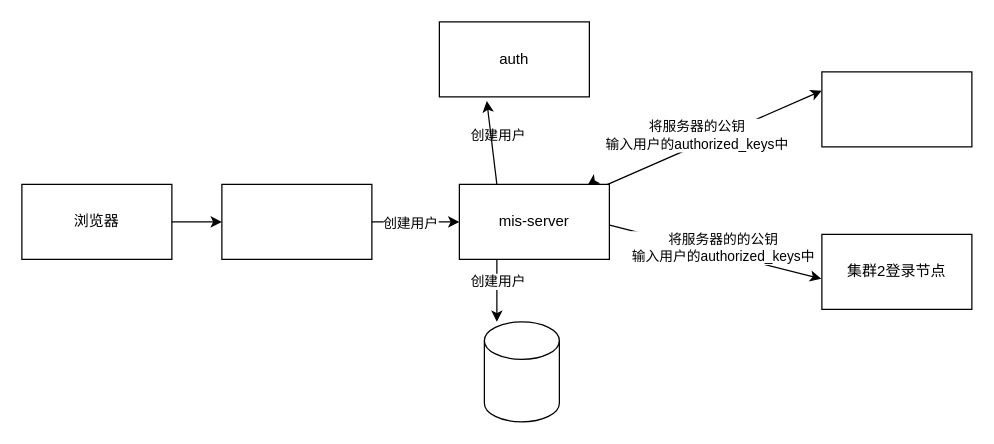
The diagram is 994 pixels wide and 444 high, and some of its shapes have lost their labels. Each missing label, with the box of its shape:
portal-web: (221, 183, 372, 259)
集群1登录节点: (821, 71, 972, 147)
